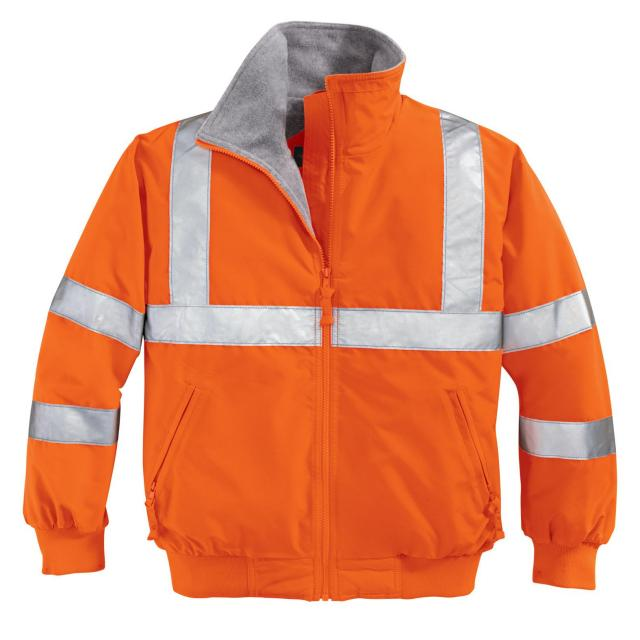Reflective-Jacket: (15, 36, 592, 619)
